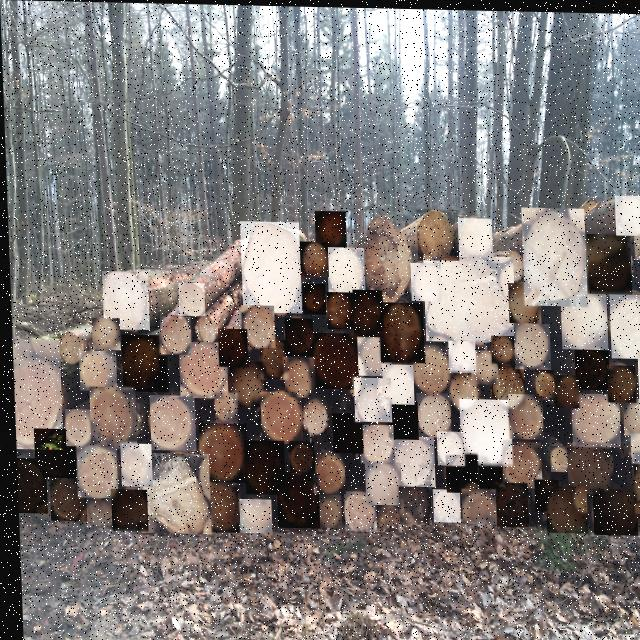wood-log: (421, 254, 514, 341), (520, 205, 586, 305), (135, 452, 207, 533), (238, 220, 300, 312), (10, 339, 60, 450), (456, 397, 509, 464), (578, 231, 630, 292), (196, 422, 245, 482), (87, 387, 134, 448), (176, 341, 226, 398), (307, 332, 356, 389), (119, 334, 167, 392), (100, 271, 148, 329), (377, 300, 422, 361), (558, 290, 606, 347), (147, 394, 195, 450), (568, 391, 618, 444), (273, 471, 316, 528), (564, 440, 609, 491), (257, 390, 300, 443), (241, 439, 282, 494), (415, 207, 457, 259), (73, 445, 114, 498), (30, 428, 73, 478), (607, 291, 640, 356), (589, 486, 634, 533), (391, 435, 432, 486), (542, 483, 584, 531), (410, 343, 451, 392), (196, 482, 235, 532), (499, 439, 539, 486), (226, 360, 265, 407), (325, 246, 363, 292), (351, 376, 389, 421), (13, 458, 44, 513), (511, 321, 548, 367), (361, 460, 398, 504), (413, 391, 449, 436), (46, 478, 83, 521), (107, 489, 144, 532), (505, 392, 540, 437), (76, 350, 114, 391), (488, 363, 523, 406), (350, 288, 382, 335), (492, 480, 525, 525), (572, 345, 607, 387), (239, 305, 273, 347), (357, 423, 392, 463), (309, 451, 342, 493), (117, 443, 149, 486), (456, 216, 491, 255), (355, 335, 389, 375), (379, 362, 412, 403), (340, 490, 373, 530), (506, 281, 539, 321), (329, 412, 360, 453), (442, 453, 475, 491), (395, 485, 428, 523), (408, 261, 440, 300), (257, 339, 288, 379), (282, 356, 313, 396), (458, 487, 493, 522), (446, 372, 479, 409), (384, 400, 416, 438), (157, 316, 189, 354), (215, 328, 246, 366), (313, 210, 345, 246), (235, 498, 268, 532), (613, 193, 640, 234), (282, 317, 311, 355), (604, 362, 633, 400), (298, 240, 327, 276), (62, 409, 90, 446), (324, 290, 351, 328), (300, 399, 327, 436), (433, 429, 461, 464), (468, 348, 496, 383), (89, 317, 118, 350), (429, 487, 457, 521), (446, 339, 474, 372), (176, 282, 203, 315), (551, 372, 577, 406), (286, 440, 312, 473), (531, 477, 556, 509), (315, 493, 338, 527), (211, 391, 235, 423), (300, 282, 324, 313), (620, 396, 640, 433), (475, 461, 499, 491), (488, 334, 512, 364), (630, 449, 640, 511), (532, 367, 552, 397), (547, 443, 564, 470), (627, 431, 640, 461), (635, 349, 640, 414), (632, 223, 640, 257)
